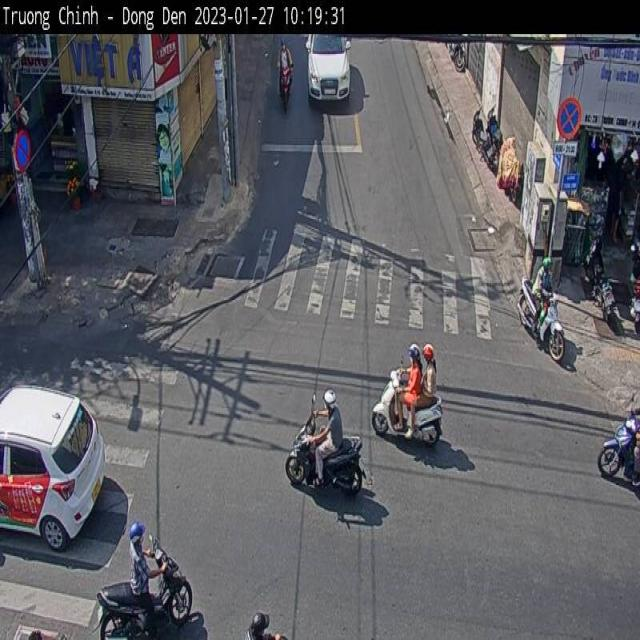with_helmet: (246, 611, 271, 640), (321, 383, 343, 415), (406, 345, 423, 375), (128, 520, 146, 548), (424, 340, 439, 372), (540, 250, 556, 280), (279, 36, 289, 53)
